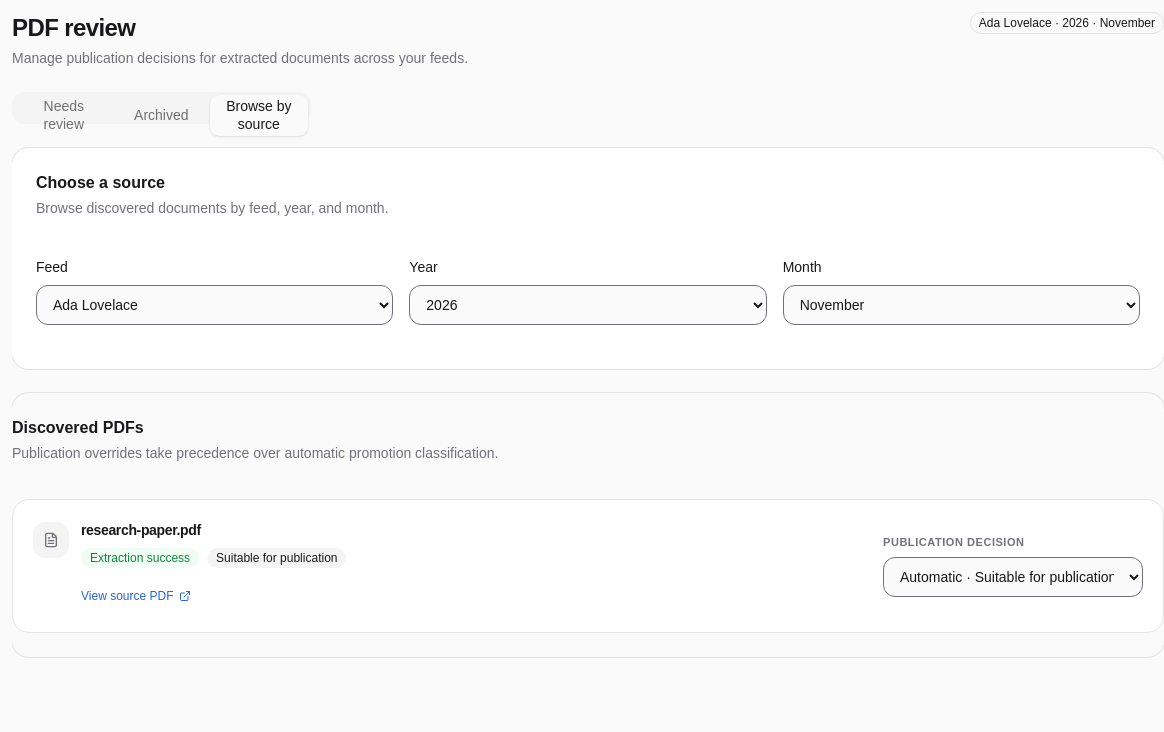
Test: PDF review › keeps the existing choice and shows feedback when a save fails
Step 1. Select "Exclude from feed" in the dropdown named "Publication decision for research-paper.pdf" → (1013, 577), box [883,557,1143,597]
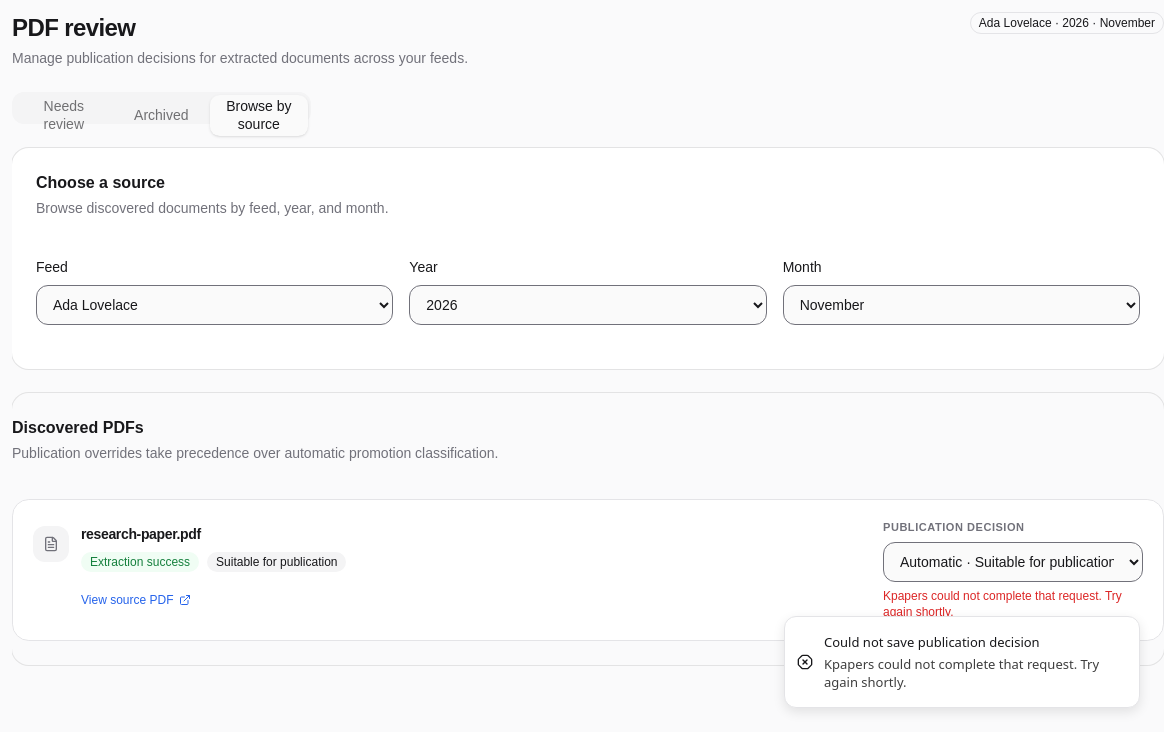
Expected: the message reads "Kpapers could not complete that request. Try again shortly.", [883,589,1122,619]
